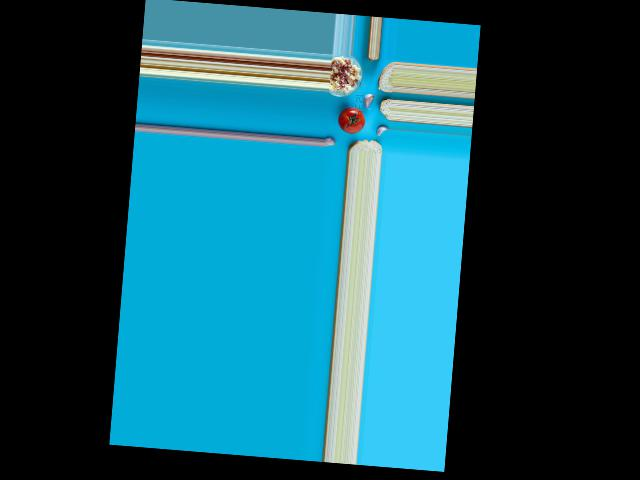tomato: (336, 107, 365, 135)
